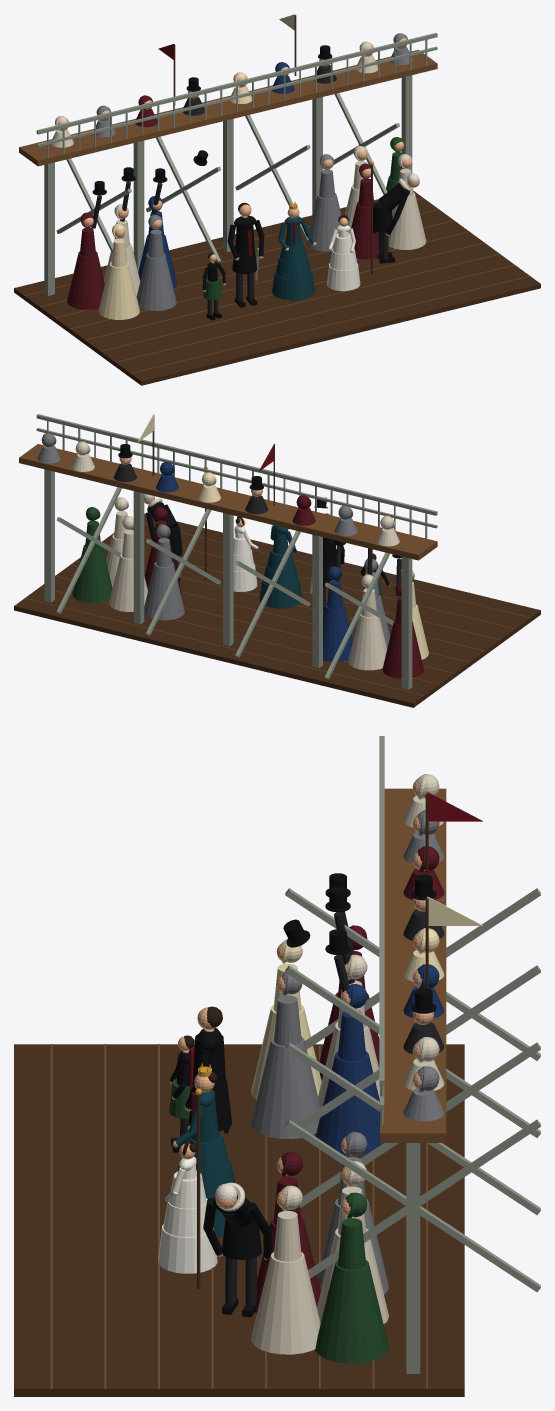
Rendered from scan-fig45-queen-and-subjects-muse.glb.
3 renders of one model, top to bottom at view 1: azimuth 30°, elevation 25°; view 2: azimuth 150°, elevation 25°; view 3: azimuth 270°, elevation 25°, orthographic. The views are drawn at different scales.
Parts seen in each view (by area): view 1: Floor, GalleryDeck, GalleryRailTop, CrowdSkirt_-2.75_0.45, CrowdSkirt_-2.05_0.45, CrowdSkirt_-3.0_1.05, GalleryRailMid, GalleryPost0, GalleryPost1, CrowdSkirt_2.7_0.45, CrowdSkirt_1.55_1.05, GalleryPost2 (+17 smaller); view 2: Floor, GalleryDeck, GalleryRailTop, CrowdSkirt_-2.35_1.05, CrowdSkirt_2.9_1.05, GalleryPost3, GalleryPost0, CrowdSkirt_1.55_1.05, GalleryRailMid, GalleryPost4, GalleryPost1, GalleryPost2 (+18 smaller); view 3: Floor, GalleryDeck, CrowdSkirt_2.9_1.05, CrowdSkirt_2.7_0.45, CrowdSkirt_-2.05_0.45, CrowdSkirt_-1.7_1.05, GalleryPost4, Brace3a, GalleryRailTop, Brace3b, Brace2a, Princess_skirt1 (+25 smaller).
Boxes of the visible parts, x1,y1,x2,y2 form: Floor: (14, 191, 540, 385); GalleryDeck: (19, 49, 437, 166); GalleryRailTop: (36, 33, 437, 134); CrowdSkirt_-2.75_0.45: (98, 262, 139, 319); CrowdSkirt_-2.05_0.45: (136, 253, 176, 310); CrowdSkirt_-3.0_1.05: (67, 251, 104, 309); GalleryRailMid: (36, 46, 437, 146); GalleryPost0: (44, 162, 54, 295); GalleryPost1: (133, 140, 144, 271); CrowdSkirt_2.7_0.45: (388, 192, 426, 249); CrowdSkirt_1.55_1.05: (306, 193, 341, 251); GalleryPost2: (223, 119, 233, 251); Floor: (14, 513, 540, 707); GalleryDeck: (19, 444, 437, 560); GalleryRailTop: (36, 414, 437, 515); CrowdSkirt_-2.35_1.05: (348, 614, 387, 670); CrowdSkirt_2.9_1.05: (72, 544, 112, 602); GalleryPost3: (133, 491, 144, 624); GalleryPost0: (401, 556, 412, 689); CrowdSkirt_1.55_1.05: (144, 562, 184, 620); GalleryRailMid: (36, 428, 437, 528); GalleryPost4: (44, 469, 54, 602); GalleryPost1: (312, 534, 322, 667); GalleryPost2: (223, 513, 233, 646); Floor: (14, 1044, 464, 1396); GalleryDeck: (380, 788, 446, 1142); CrowdSkirt_2.9_1.05: (315, 1260, 388, 1363); CrowdSkirt_2.7_0.45: (251, 1252, 320, 1354); CrowdSkirt_-2.05_0.45: (251, 1036, 320, 1139); CrowdSkirt_-1.7_1.05: (315, 1051, 383, 1154); GalleryPost4: (406, 1143, 420, 1373); Brace3a: (285, 1119, 540, 1292); GalleryRailTop: (379, 736, 384, 1086); Brace3b: (308, 1119, 540, 1278); Brace2a: (285, 1042, 540, 1214); Princess_skirt1: (158, 1224, 217, 1273).
Bounding box in the file's own units: 7.6 × 4 × 4.91.
